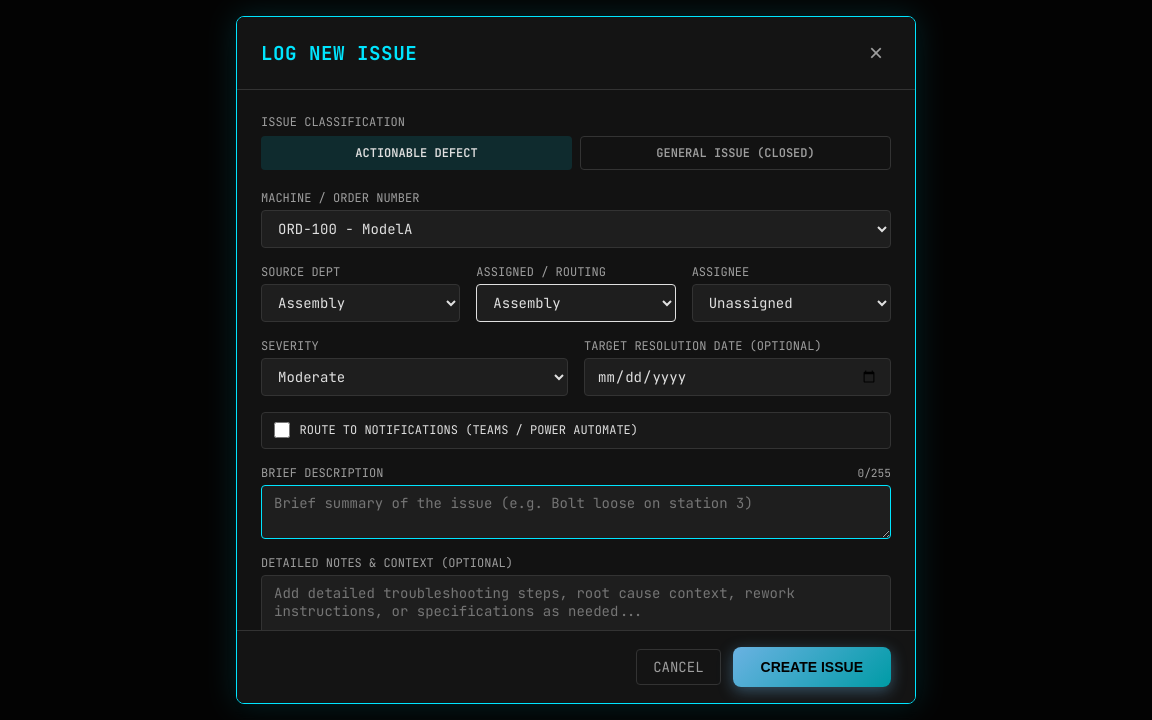
Test: IssueModal Assignee Department Filtering › renders notification routing checkbox and displays target recipient preview
Note: Toggle checkbox on
Click the checkbox labelled "ROUTE TO NOTIFICATIONS (TEAMS / POWER AUTOMATE)" at (282, 430), box [274,422,290,438]
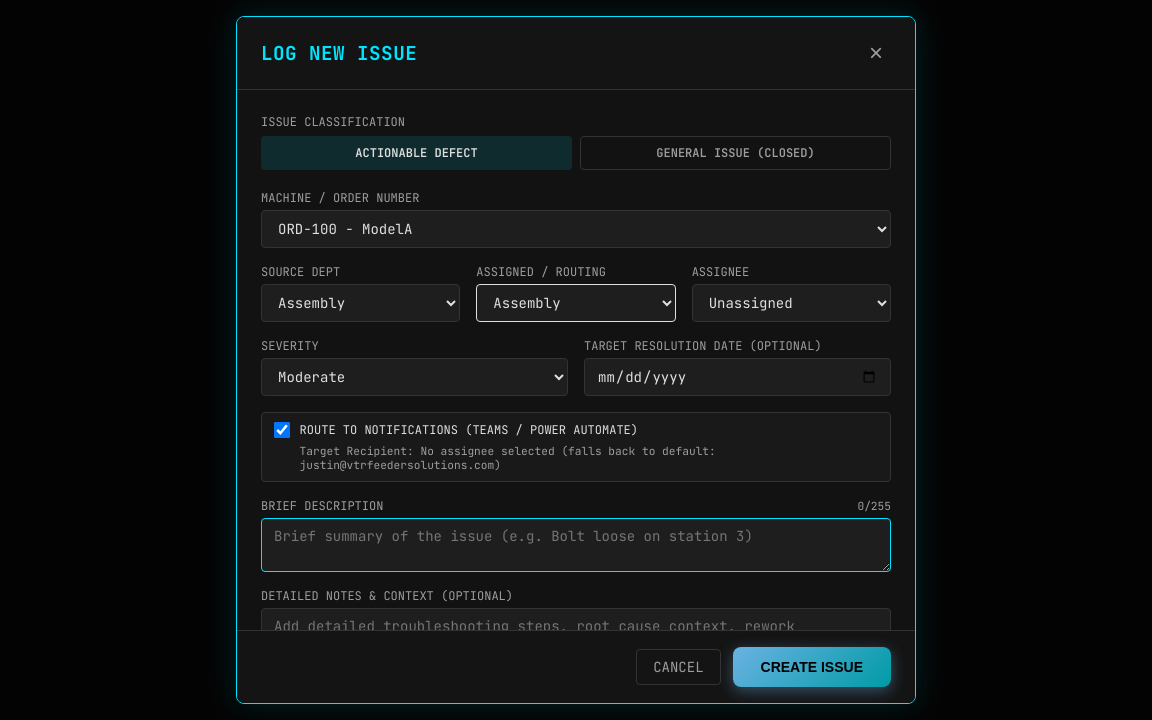
Now the checkbox labelled "ROUTE TO NOTIFICATIONS (TEAMS / POWER AUTOMATE)" is checked, box [274,422,290,438]
Now the text "falls back to default: justin@vtrfeedersolutions.com" is shown, box [300,444,716,472]
Select "Assembly" in the dropdown labelled "ASSIGNED / ROUTING" at (576, 303), box [476,284,676,322]
Select "Alice Smith" in the dropdown labelled "ASSIGNEE" at (791, 303), box [692,284,891,322]
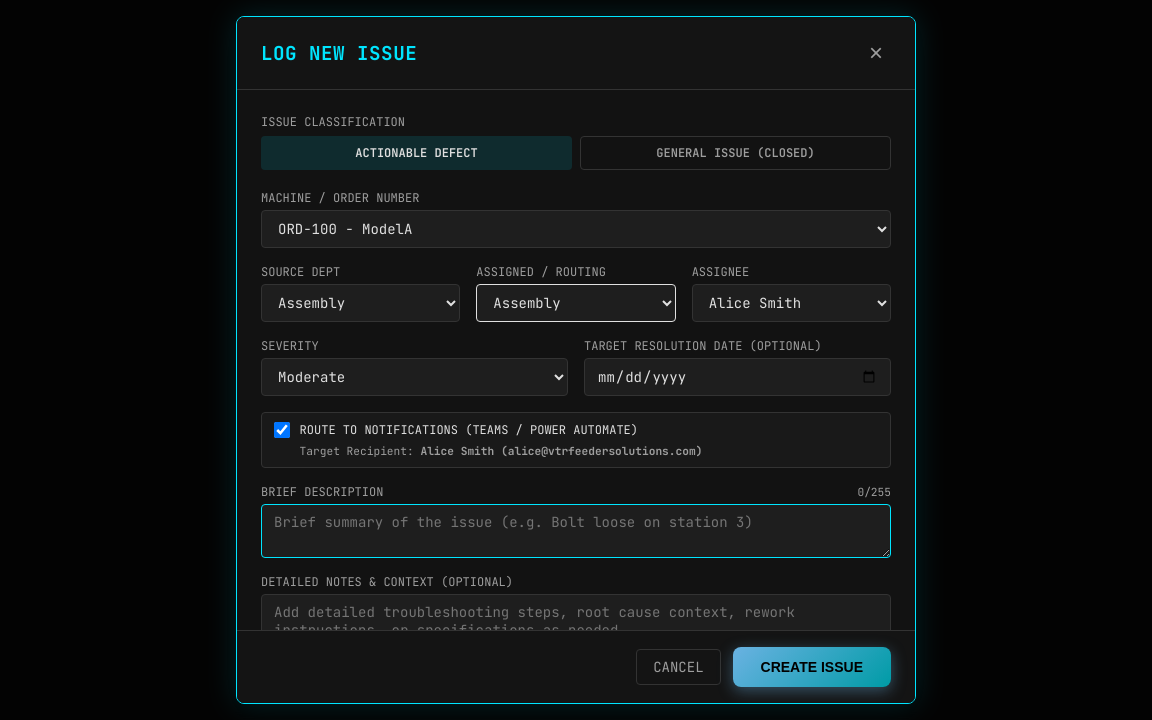
Now the text "Alice Smith (alice@vtrfeedersolutions.com)" is shown, box [420,444,702,458]
